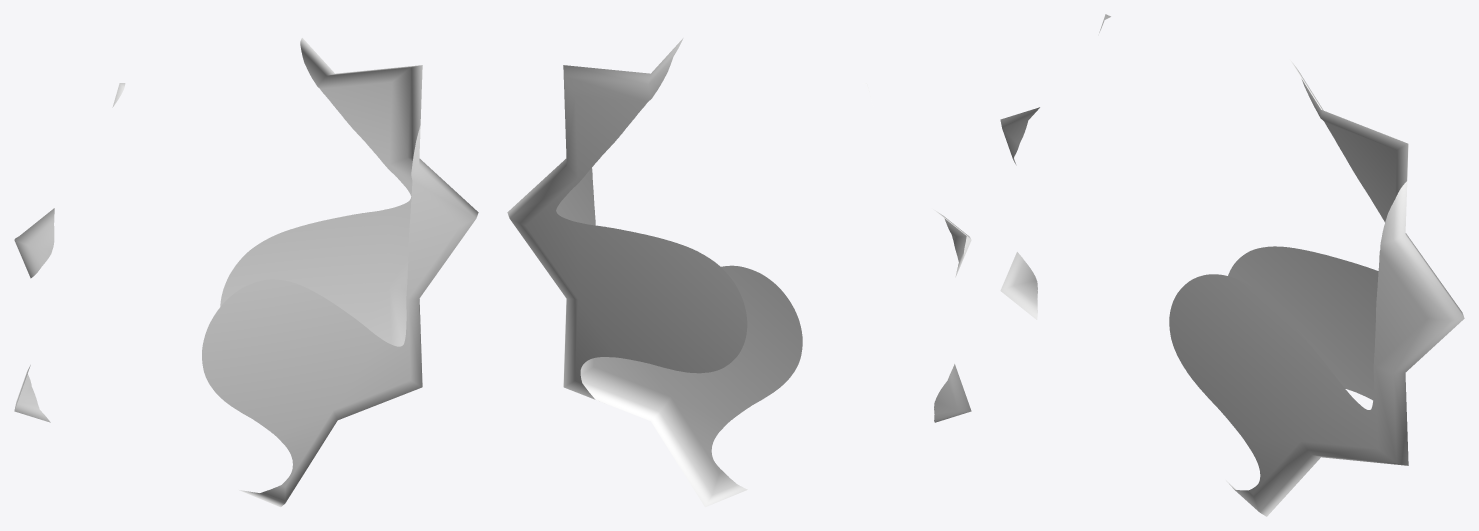
File: Naruto.fbx
The picture shows the model from 3 angles, left to right: view 1: azimuth 30°, elevation 25°; view 2: azimuth 150°, elevation 25°; view 3: azimuth 330°, elevation 25°; orthographic projection.
Parts seen in each view (by area): view 1: Naruto; view 2: Naruto; view 3: Naruto.
Boxes of the visible parts, x1,y1,x2,y2 form: Naruto: (14,38,478,507); Naruto: (507,38,971,507); Naruto: (1000,14,1464,516).
Bounding box in the file's own units: 230 × 233 × 15.96.
